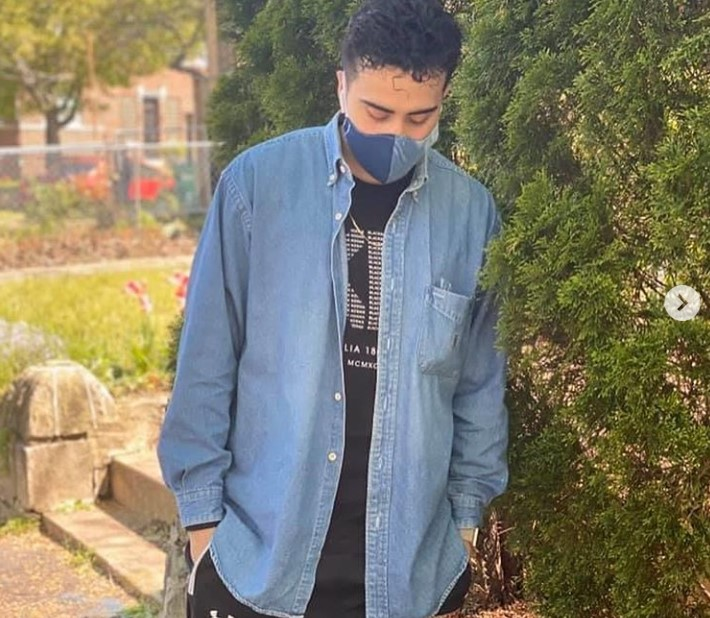face_with_mask: (332, 2, 453, 190)
